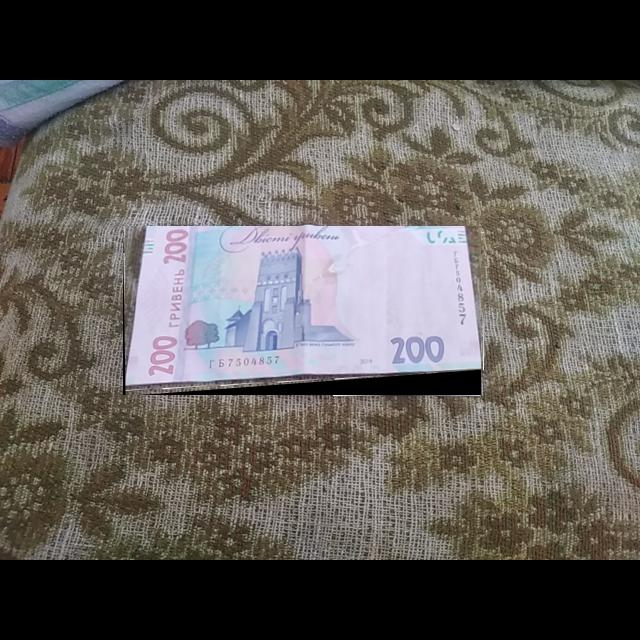200uah: (125, 226, 482, 385)
